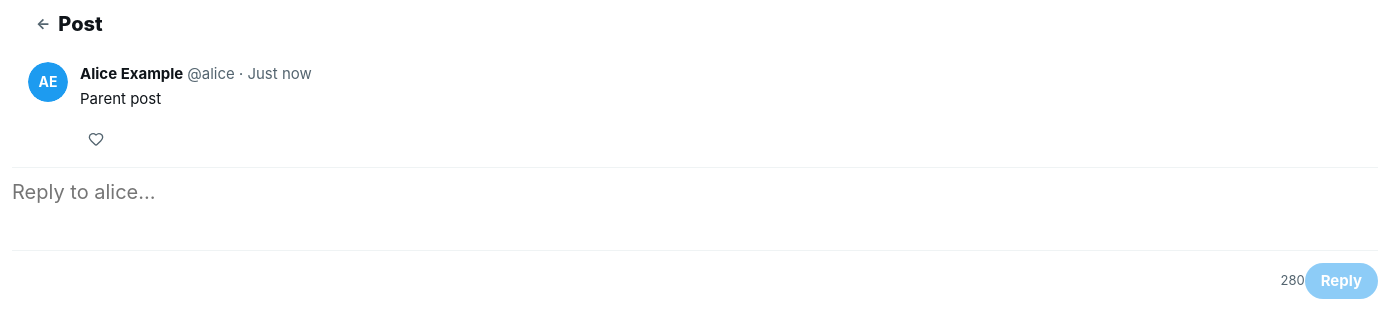
Test case: Conversation UI states › shows pending state during reply submission
Type "My reply" into the text box with test id "reply-composer-input".
click(695, 204); type("My reply")  # box left=12, top=168, right=1378, bottom=240
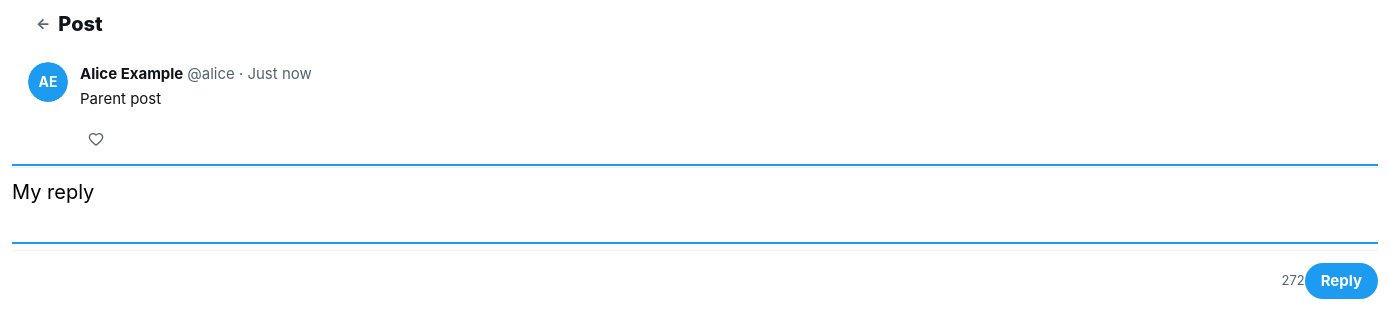
Click the button with test id "reply-submit-button".
click(1341, 280)  # box left=1305, top=262, right=1378, bottom=298
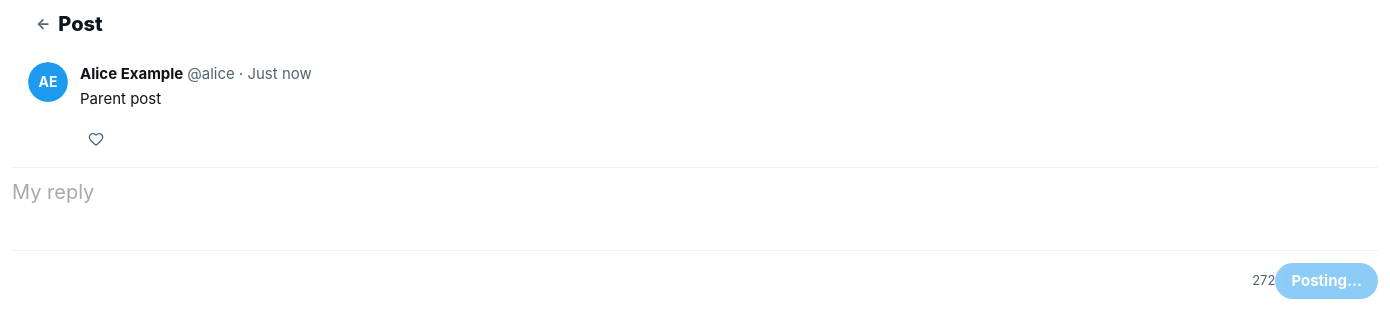
expect the button with test id "reply-submit-button" is disabled: met, box left=1275, top=262, right=1378, bottom=298
expect the button with test id "reply-submit-button" reads "Posting…": met, box left=1275, top=262, right=1378, bottom=298
